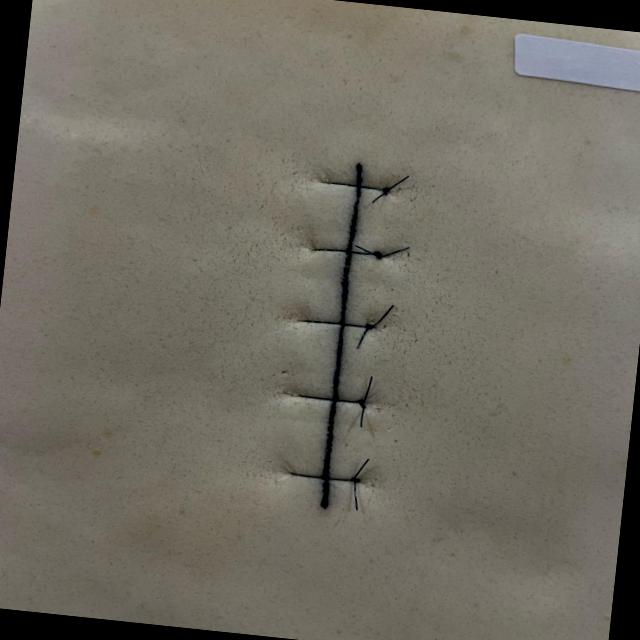knot: (370, 249, 386, 261), (354, 397, 368, 410), (363, 321, 376, 331), (380, 186, 391, 197), (349, 475, 362, 484)
leftover: (370, 303, 394, 327), (385, 174, 410, 191), (351, 457, 370, 479), (355, 325, 371, 349), (381, 245, 410, 257), (361, 374, 373, 403), (352, 243, 376, 256), (370, 191, 387, 203), (352, 479, 358, 511), (358, 403, 365, 428)
stitch: (289, 471, 356, 481), (296, 393, 361, 403), (324, 181, 386, 191), (302, 319, 370, 328), (312, 248, 376, 255)
wound: (320, 162, 361, 509)
